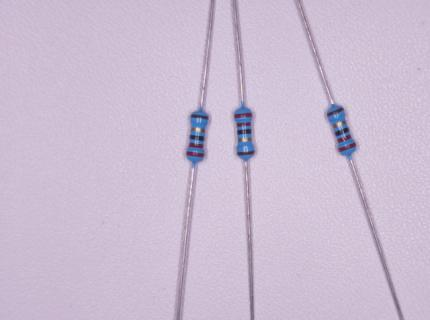Red band: (337, 142, 357, 153), (337, 134, 352, 143), (186, 151, 205, 158), (234, 113, 253, 119), (188, 142, 204, 148), (236, 122, 251, 127)
